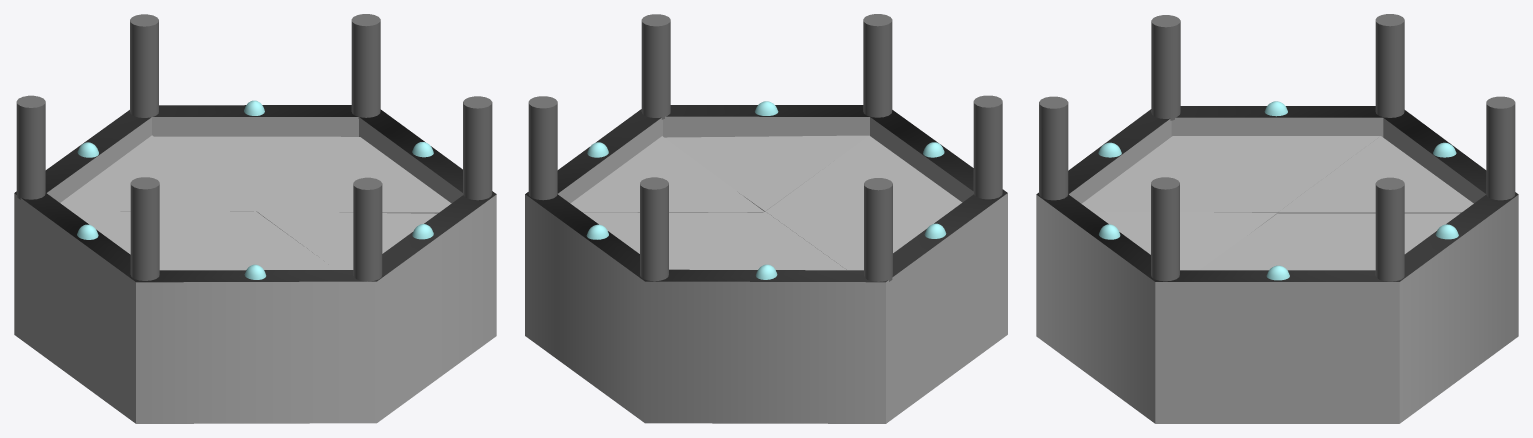
File: Base_Sandwormboss.fbx
3 views of the same model, side by side, from view 1: azimuth 30°, elevation 25°; view 2: azimuth 150°, elevation 25°; view 3: azimuth 270°, elevation 25° (orthographic).
Parts seen in each view (by area): view 1: Base_Sandwormboss; view 2: Base_Sandwormboss; view 3: Base_Sandwormboss.
Boxes of the visible parts, x1,y1,x2,y2 form: Base_Sandwormboss: (14,14,496,423); Base_Sandwormboss: (525,14,1007,423); Base_Sandwormboss: (1036,14,1518,423).
Size of the model in its own units: 84.57 by 52.27 by 97.8.
1 material, 1 textured.
